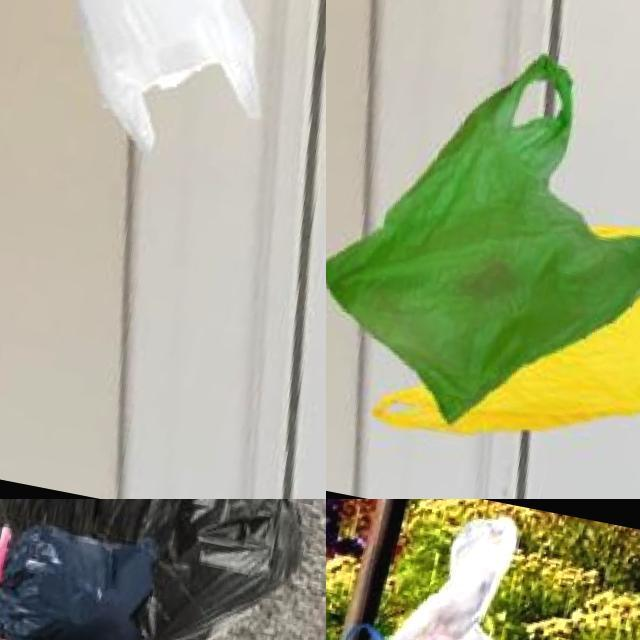waste: (326, 24, 640, 453), (369, 179, 640, 484), (0, 499, 326, 640), (29, 0, 305, 161), (326, 499, 612, 640), (0, 510, 166, 640)
